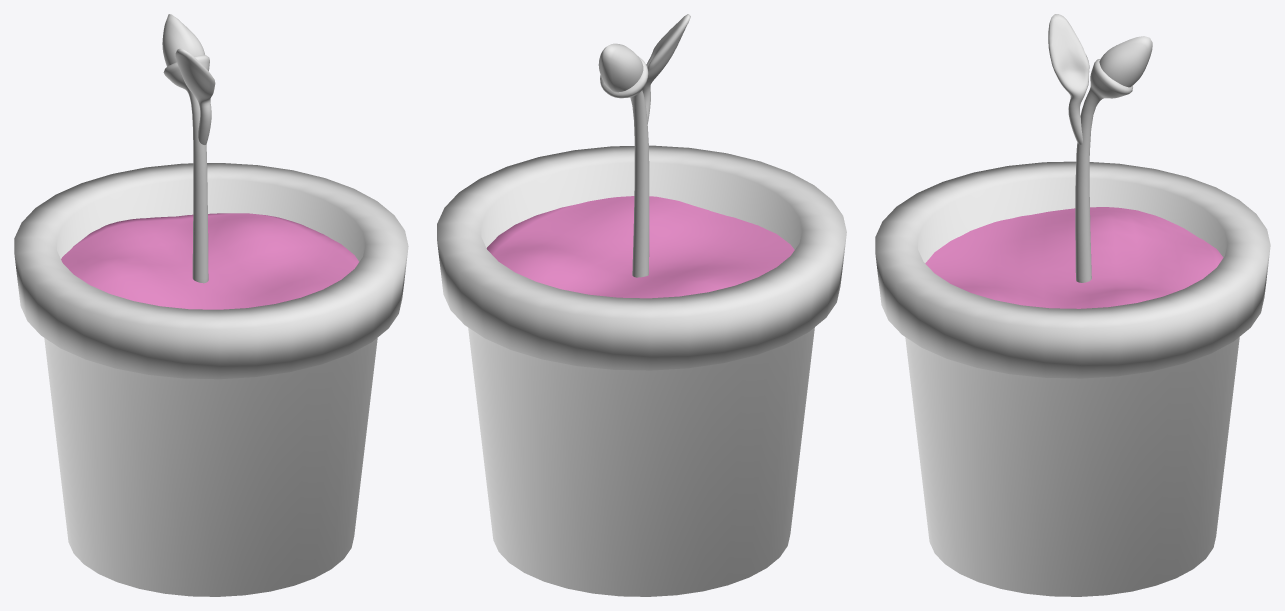
The model's file is Level1.fbx.
3 renders of one model, left to right at view 1: azimuth 30°, elevation 25°; view 2: azimuth 150°, elevation 25°; view 3: azimuth 270°, elevation 25°, orthographic. The views are drawn at different scales.
Parts seen in each view (by area): view 1: Cylinder.011, Circle.014, Flower_stem, Cube.008; view 2: Cylinder.011, Circle.014, Flower_stem, Cube.008; view 3: Cylinder.011, Circle.014, Flower_stem, Cube.008.
Part boxes in pixels (x1,y1,x2,y2): Cylinder.011: [14, 163, 408, 596]; Circle.014: [61, 213, 358, 309]; Flower_stem: [163, 48, 215, 283]; Cube.008: [162, 14, 204, 66]; Cylinder.011: [437, 145, 846, 596]; Circle.014: [486, 196, 794, 298]; Flower_stem: [600, 14, 690, 277]; Cube.008: [598, 43, 643, 92]; Cylinder.011: [875, 161, 1270, 596]; Circle.014: [925, 207, 1223, 308]; Flower_stem: [1048, 14, 1132, 282]; Cube.008: [1099, 36, 1152, 87].
Size of the model in its own units: 516 by 725 by 515.
